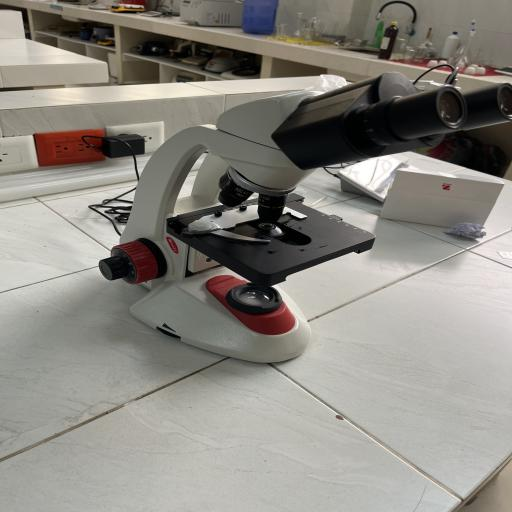Microscopio_Binocular: (89, 65, 512, 368)
